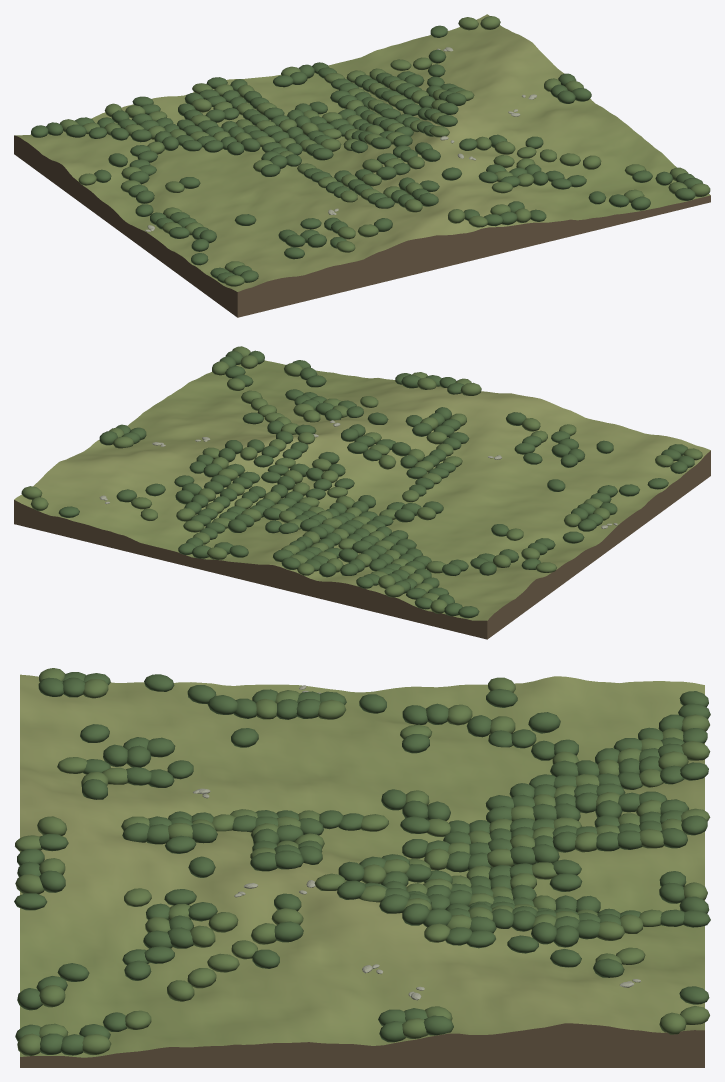
File: gms-06.glb
The picture shows the model from 3 angles, top to bottom: view 1: azimuth 30°, elevation 25°; view 2: azimuth 150°, elevation 25°; view 3: azimuth 270°, elevation 25°; orthographic projection. The views are drawn at different scales.
Visible parts, largest first — view 1: GMS-06 - estudio del paisaje; view 2: GMS-06 - estudio del paisaje; view 3: GMS-06 - estudio del paisaje.
Boxes of the visible parts, x1=… form: GMS-06 - estudio del paisaje: x1=14, y1=14, x2=710, y2=317; GMS-06 - estudio del paisaje: x1=14, y1=346, x2=710, y2=639; GMS-06 - estudio del paisaje: x1=14, y1=668, x2=710, y2=1067.
Bounding box in the file's own units: 12.09 × 1.09 × 9.99.
